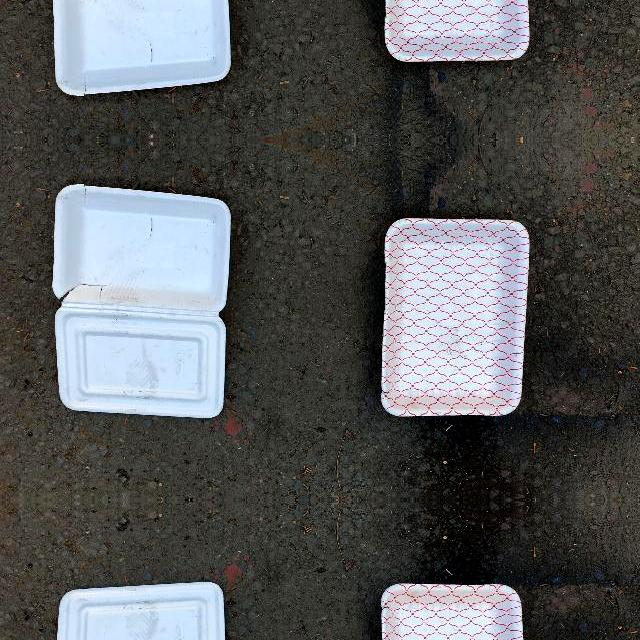Styrofoam: (50, 182, 230, 416), (52, 183, 230, 418), (381, 216, 532, 418), (381, 218, 530, 416), (50, 0, 230, 98), (52, 0, 230, 97), (50, 583, 230, 640), (56, 582, 224, 640), (380, 0, 531, 63), (385, 0, 530, 62), (380, 582, 531, 640), (381, 584, 524, 640)
